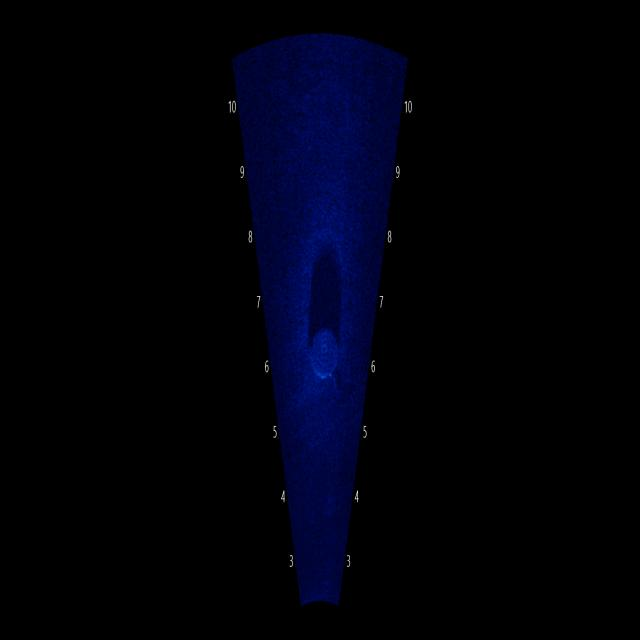circle: (305, 306, 344, 396)
